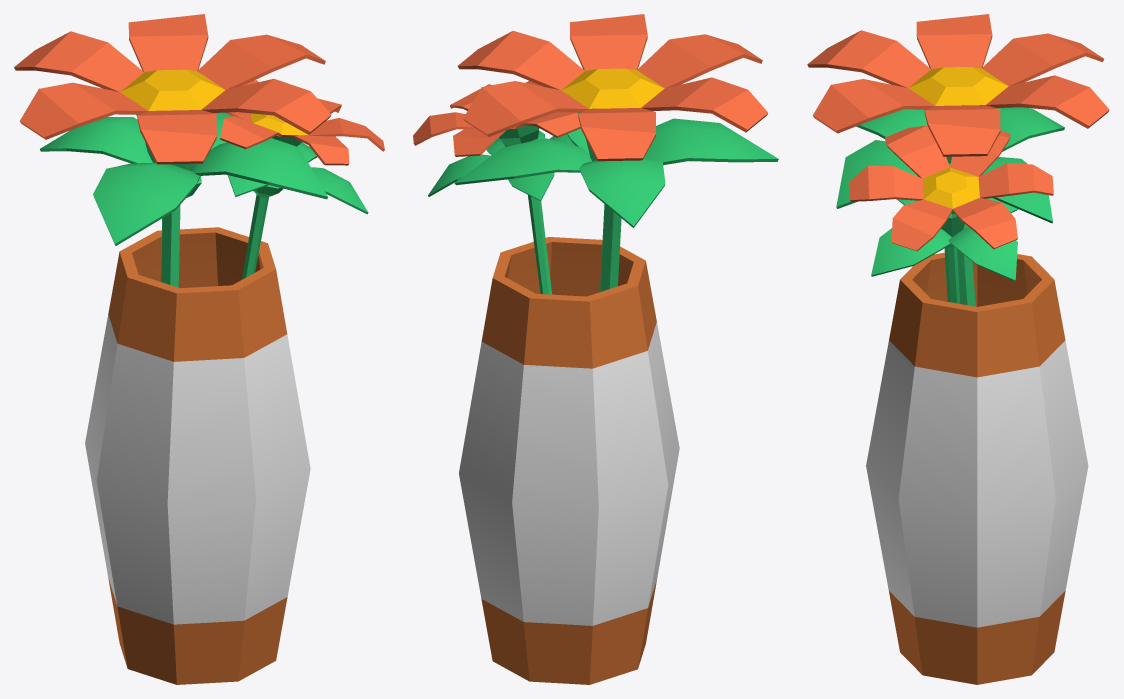
The model's file is Vase of flower lv3.fbx.
The picture shows the model from 3 angles, left to right: view 1: azimuth 30°, elevation 25°; view 2: azimuth 150°, elevation 25°; view 3: azimuth 270°, elevation 25°; orthographic projection. The views are drawn at different scales.
Parts seen in each view (by area): view 1: Vase_of_Flower_LV3; view 2: Vase_of_Flower_LV3; view 3: Vase_of_Flower_LV3.
Part boxes in pixels (<box>): Vase_of_Flower_LV3: <box>14,14,384,684</box>; Vase_of_Flower_LV3: <box>413,14,778,684</box>; Vase_of_Flower_LV3: <box>807,14,1109,684</box>.
Bounding box in the file's own units: 34.4 × 58.69 × 28.34.
